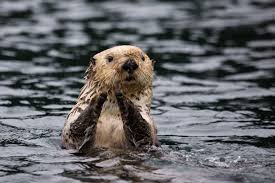otter: (72, 41, 162, 156)
